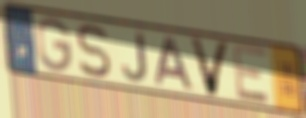A: (154, 36, 196, 92)
E: (231, 42, 273, 106)
G: (35, 16, 73, 74)
J: (120, 31, 149, 84)
S: (75, 23, 113, 81)
V: (187, 35, 233, 98)
